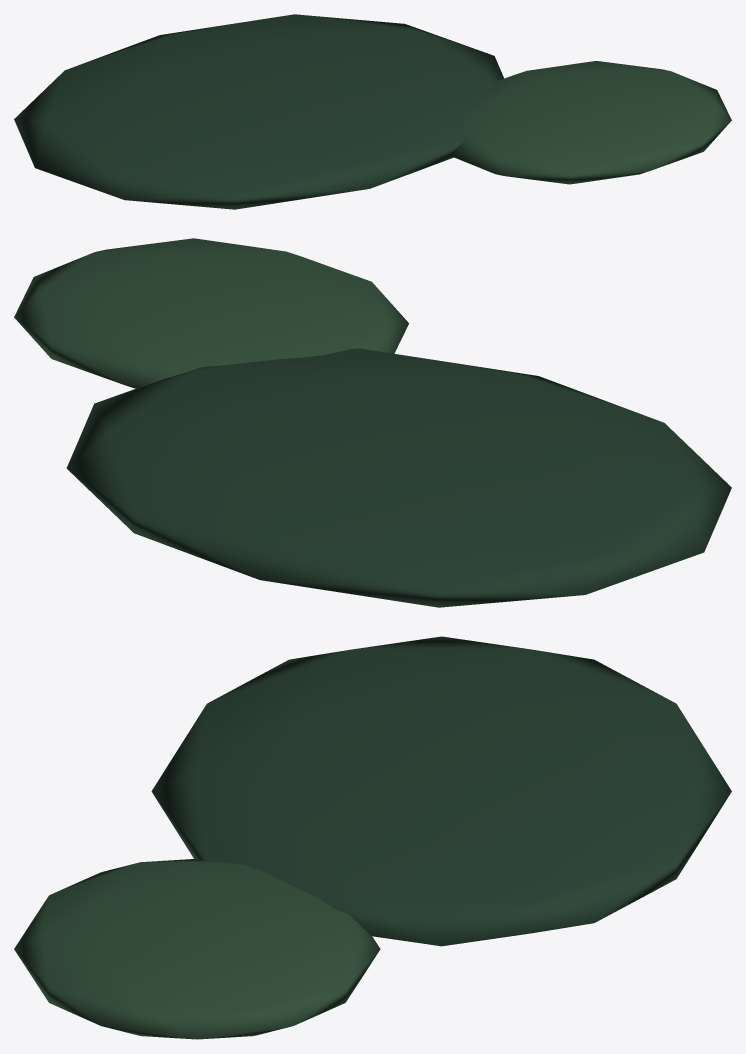
File: cave-moss.d7654ee8.glb
3 views of the same model, one above another, from view 1: azimuth 30°, elevation 25°; view 2: azimuth 150°, elevation 25°; view 3: azimuth 270°, elevation 25° (orthographic). The views are drawn at different scales.
Visible parts, largest first — view 1: body; view 2: body; view 3: body.
Boxes of the visible parts, bbox=[...] form: body: bbox=[14, 14, 731, 209]; body: bbox=[14, 238, 731, 607]; body: bbox=[14, 636, 731, 1039].
Bounding box in the file's own units: 0.31 × 0.024 × 0.235.
